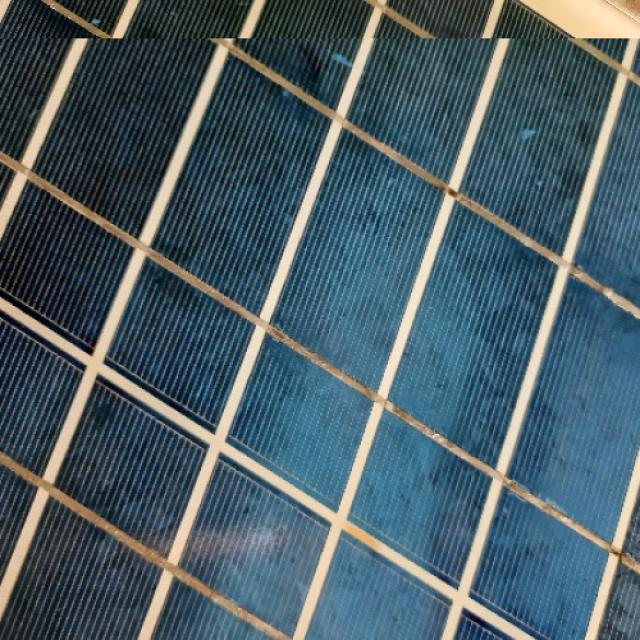Clean: (0, 38, 640, 640)
